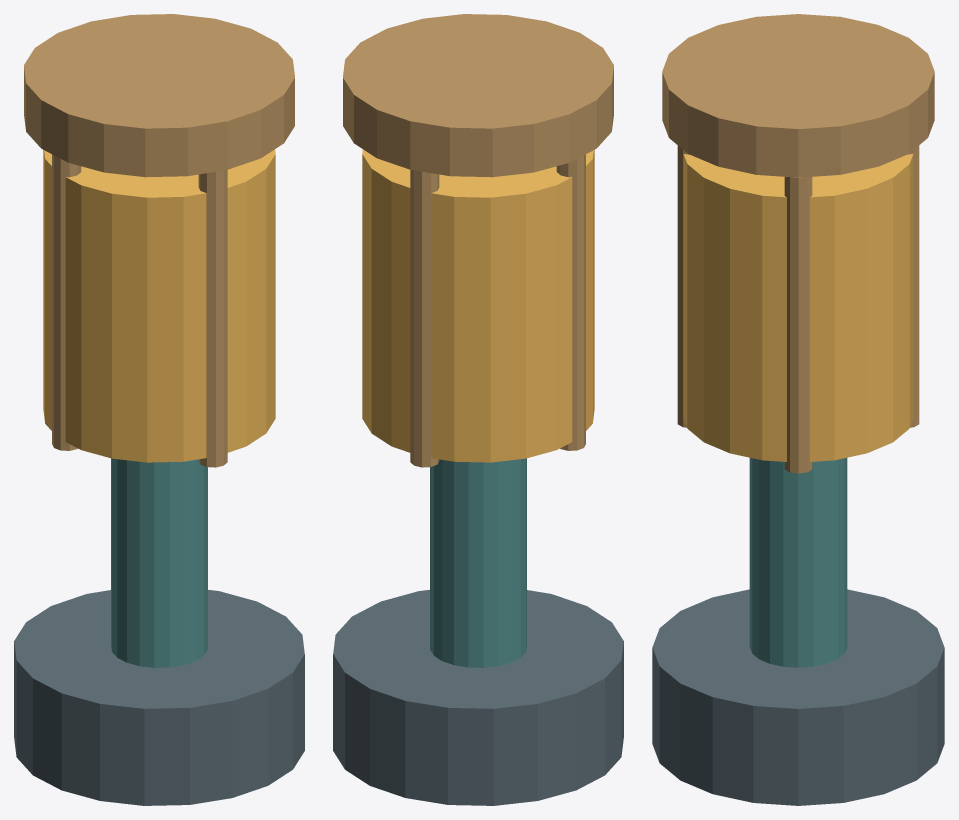
Rendered from EmergencyBeacon.glb.
3 views of the same model, side by side, from view 1: azimuth 30°, elevation 25°; view 2: azimuth 150°, elevation 25°; view 3: azimuth 270°, elevation 25° (orthographic).
Visible parts, largest first — view 1: EmergencyBeacon; view 2: EmergencyBeacon; view 3: EmergencyBeacon.
Boxes of the visible parts, left/top/right/bottom form: EmergencyBeacon: left=14, top=14, right=304, bottom=805; EmergencyBeacon: left=333, top=14, right=623, bottom=805; EmergencyBeacon: left=652, top=14, right=944, bottom=805.
Bounding box in the file's own units: 0.6 × 1.52 × 0.6.
